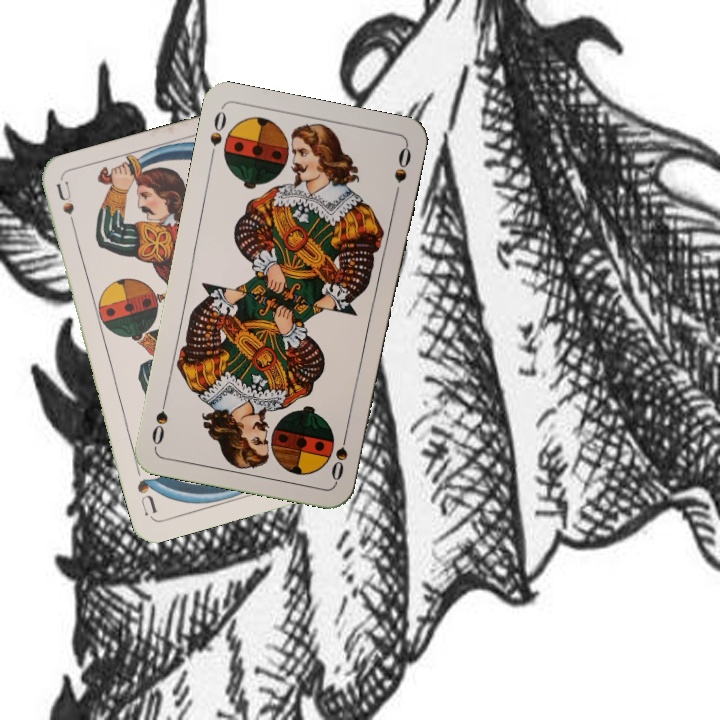SO: (327, 425, 351, 484), (205, 107, 229, 164)
SU: (52, 179, 80, 238)
